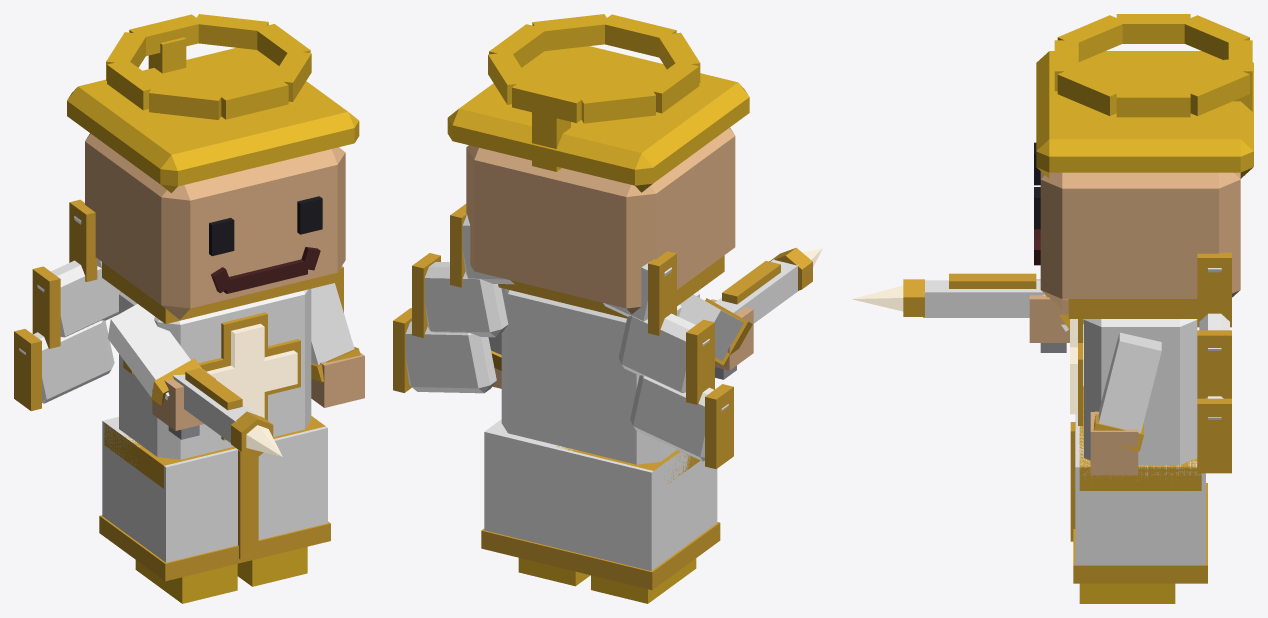
Rendered from medic_legend.glb.
The picture shows the model from 3 angles, left to right: view 1: azimuth 30°, elevation 25°; view 2: azimuth 150°, elevation 25°; view 3: azimuth 270°, elevation 25°; orthographic projection. The views are drawn at different scales.
Parts seen in each view (by area): view 1: medic_legend_mesh; view 2: medic_legend_mesh; view 3: medic_legend_mesh.
Part boxes in pixels (box(x1,y1,x2,y2)): medic_legend_mesh: box(14, 14, 364, 603); medic_legend_mesh: box(393, 14, 822, 603); medic_legend_mesh: box(851, 14, 1253, 603).
Bounding box in the file's own units: 0.8457 × 1.3 × 0.9179.
Materials: 2 (2 with a texture image).
